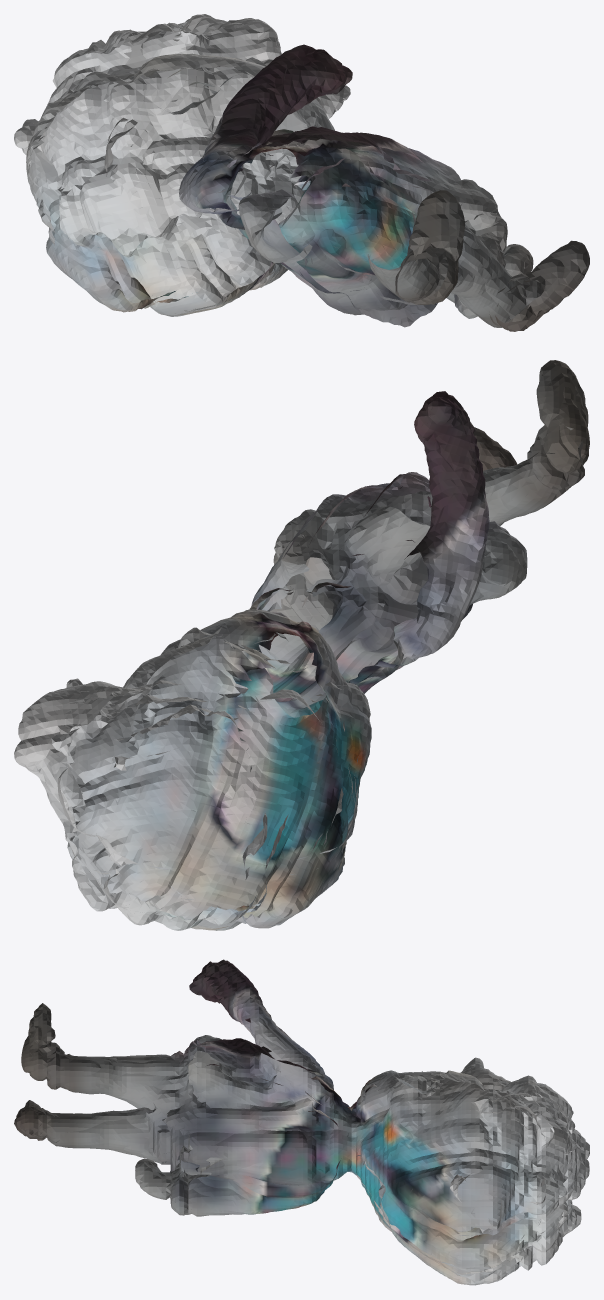
File: triposr.glb
The picture shows the model from 3 angles, top to bottom: view 1: azimuth 30°, elevation 25°; view 2: azimuth 150°, elevation 25°; view 3: azimuth 270°, elevation 25°; orthographic projection. The views are drawn at different scales.
Parts seen in each view (by area): view 1: world; view 2: world; view 3: world.
Part boxes in pixels (x1=…): world: x1=14, y1=14, x2=589, y2=331; world: x1=14, y1=360, x2=589, y2=930; world: x1=14, y1=959, x2=589, y2=1285.
Size of the model in its own units: 0.391 by 0.4912 by 0.8902.
